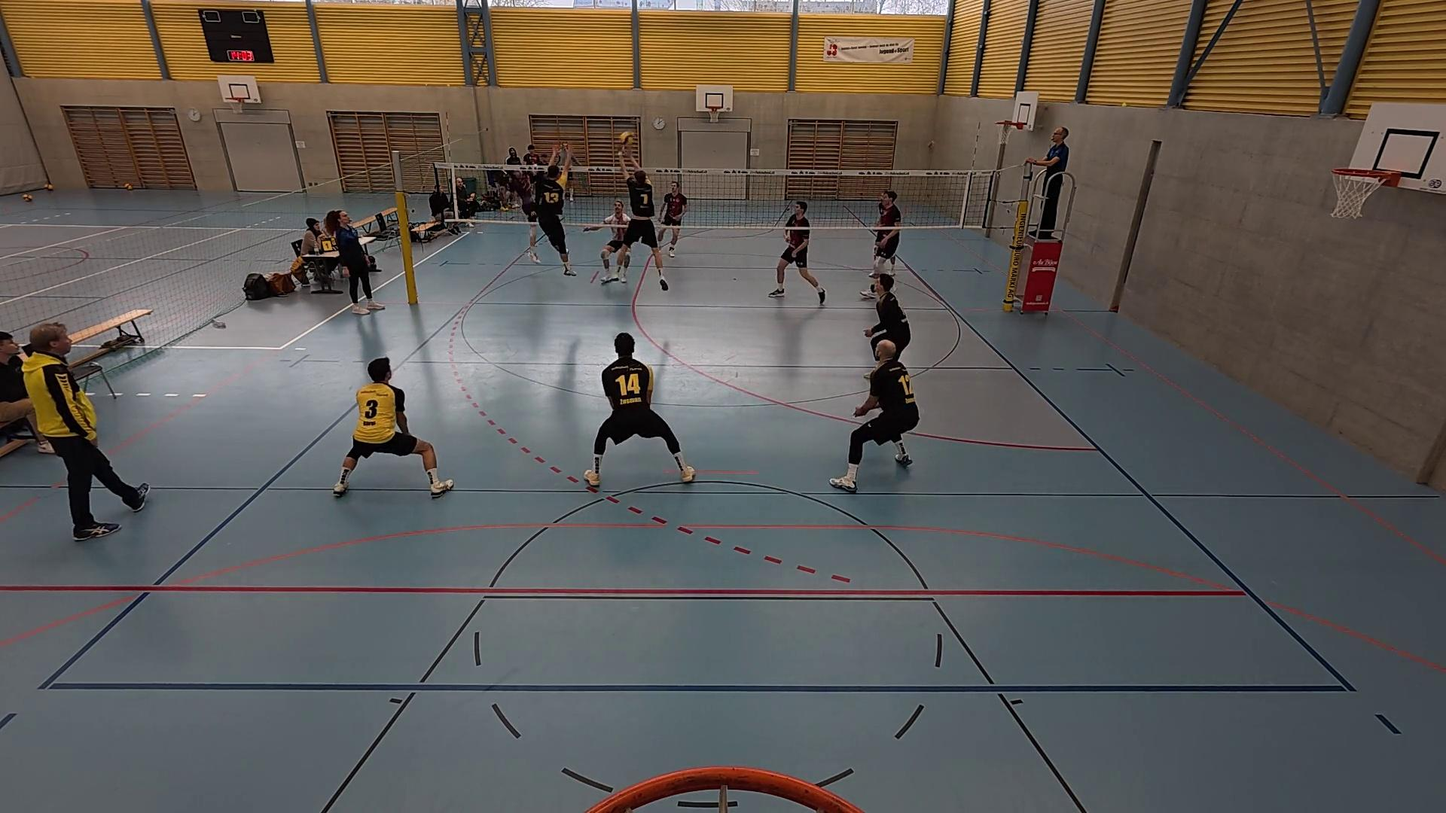Attack: (511, 152, 573, 265)
Block: (619, 145, 664, 291), (532, 143, 578, 278)
Player: (581, 333, 694, 489), (331, 358, 453, 498), (831, 337, 920, 493), (769, 200, 828, 305), (861, 187, 901, 300), (864, 273, 912, 364), (581, 202, 628, 282), (659, 178, 689, 256)
ball: (618, 130, 634, 143)
